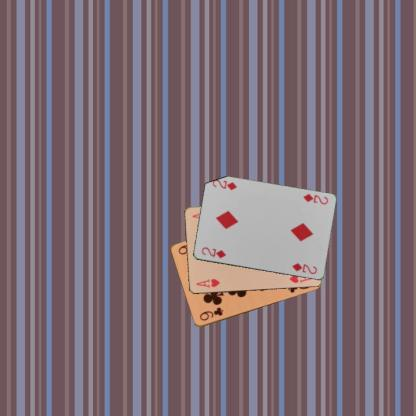2d: (199, 244, 227, 260), (300, 191, 329, 206)
9c: (197, 304, 224, 322)
Ah: (194, 276, 221, 290)
